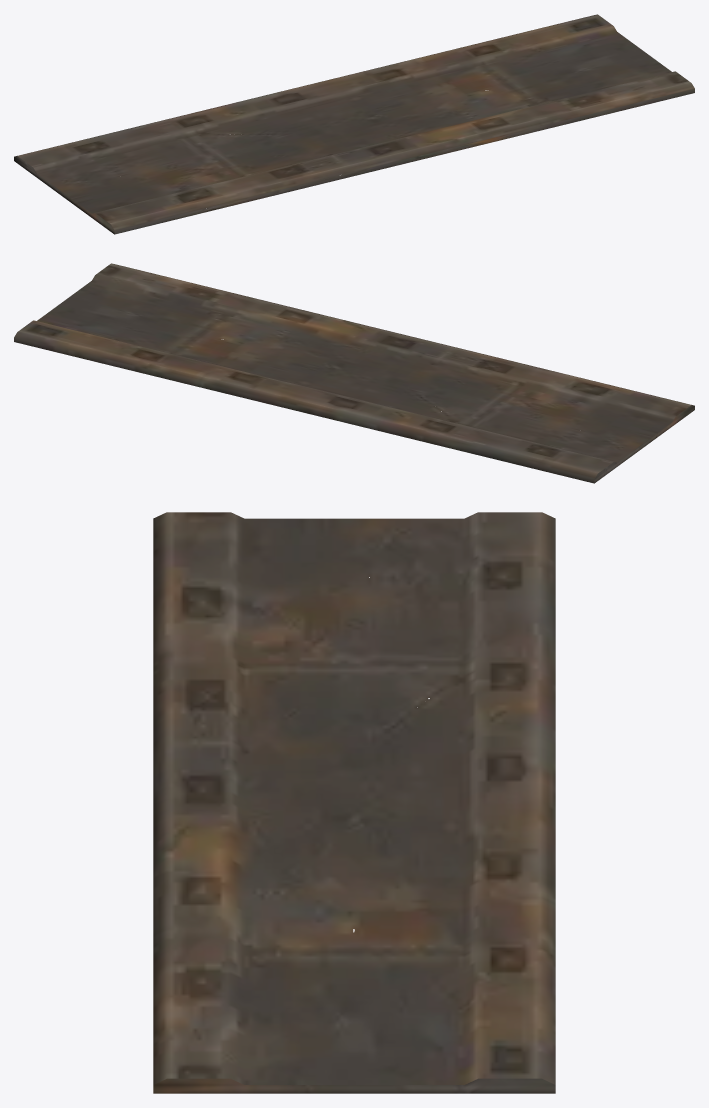
3 renders of one model, top to bottom at view 1: azimuth 30°, elevation 25°; view 2: azimuth 150°, elevation 25°; view 3: azimuth 270°, elevation 25°, orthographic. The views are drawn at different scales.
Parts seen in each view (by area): view 1: SM_DR_FloorInlay_4m_Sqr_01_LOD0; view 2: SM_DR_FloorInlay_4m_Sqr_01_LOD0; view 3: SM_DR_FloorInlay_4m_Sqr_01_LOD0.
Part boxes in pixels (x1=…): SM_DR_FloorInlay_4m_Sqr_01_LOD0: x1=14, y1=14, x2=694, y2=234; SM_DR_FloorInlay_4m_Sqr_01_LOD0: x1=14, y1=263, x2=694, y2=483; SM_DR_FloorInlay_4m_Sqr_01_LOD0: x1=153, y1=512, x2=555, y2=1093.
Size of the model in its own units: 2 by 0.0245 by 0.6.
